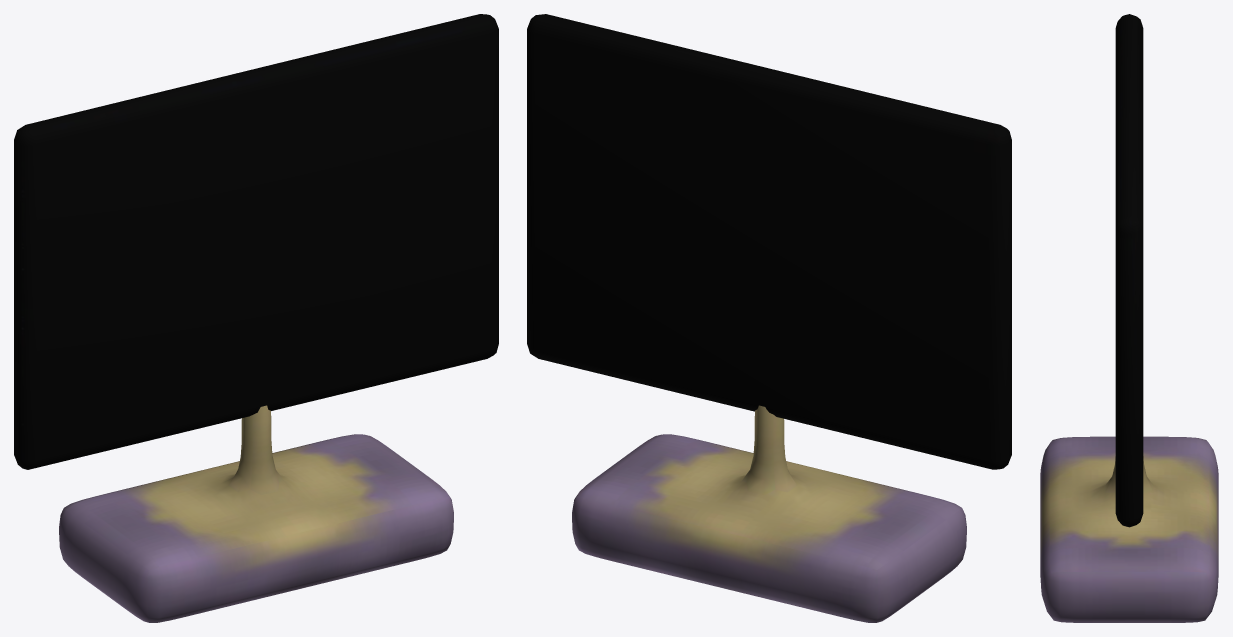
File: mirror_stand.glb
The picture shows the model from 3 angles, left to right: view 1: azimuth 30°, elevation 25°; view 2: azimuth 150°, elevation 25°; view 3: azimuth 270°, elevation 25°; orthographic projection. The views are drawn at different scales.
Visible parts, largest first — view 1: mirror, mirror_base; view 2: mirror, mirror_base; view 3: mirror_base, mirror.
Part boxes in pixels (box(x1,y1,x2,y2)): mirror: box(14, 14, 498, 469); mirror_base: box(59, 405, 453, 622); mirror: box(527, 14, 1011, 469); mirror_base: box(572, 405, 966, 622); mirror_base: box(1040, 436, 1218, 622); mirror: box(1115, 14, 1143, 527).
Size of the model in its own units: 2.2 by 2.15 by 0.7819.
2 materials, 2 textured.
